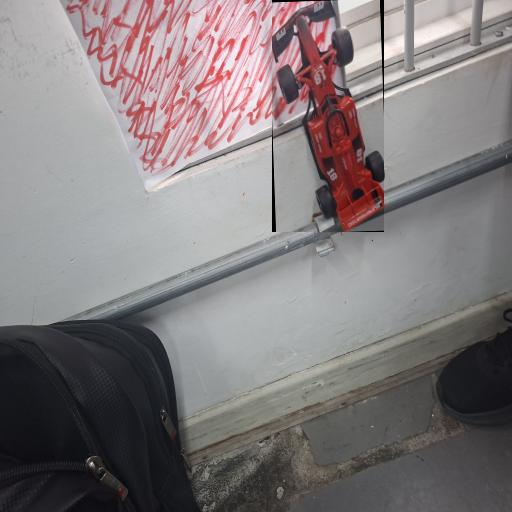carro: (273, 0, 384, 231)
